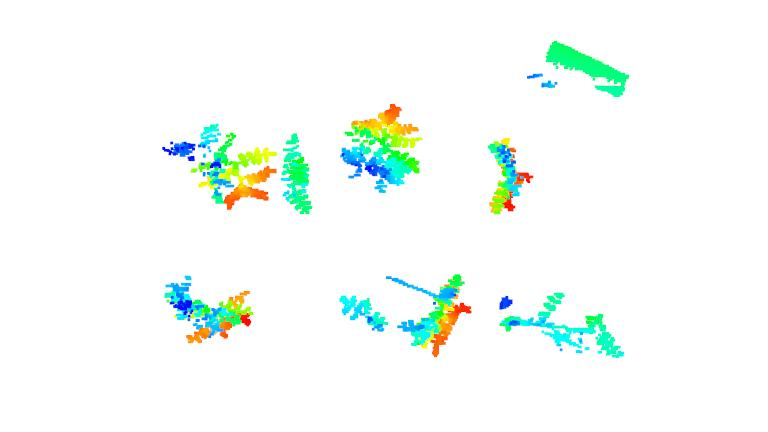chickpea: (165, 122, 277, 210), (499, 292, 627, 362), (341, 101, 424, 194), (395, 273, 470, 360), (166, 273, 256, 342), (486, 135, 535, 217), (280, 129, 314, 217), (337, 292, 391, 335)
